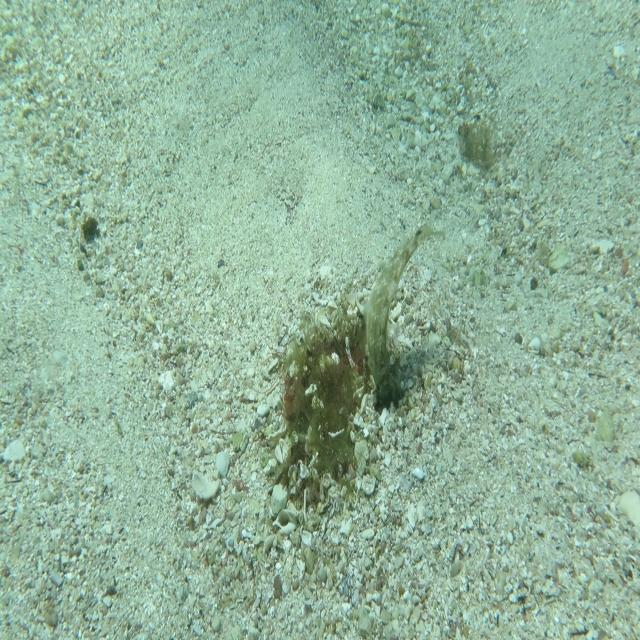NIP_IN: (362, 222, 446, 408)
core_nest: (331, 323, 371, 364)
nest: (270, 284, 406, 516)
vegetation: (456, 108, 486, 172), (79, 215, 102, 242)
